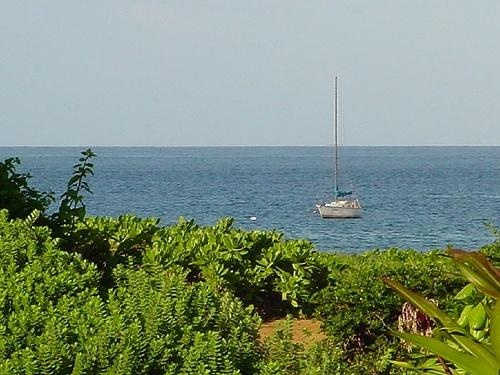boat: (316, 75, 366, 219)
